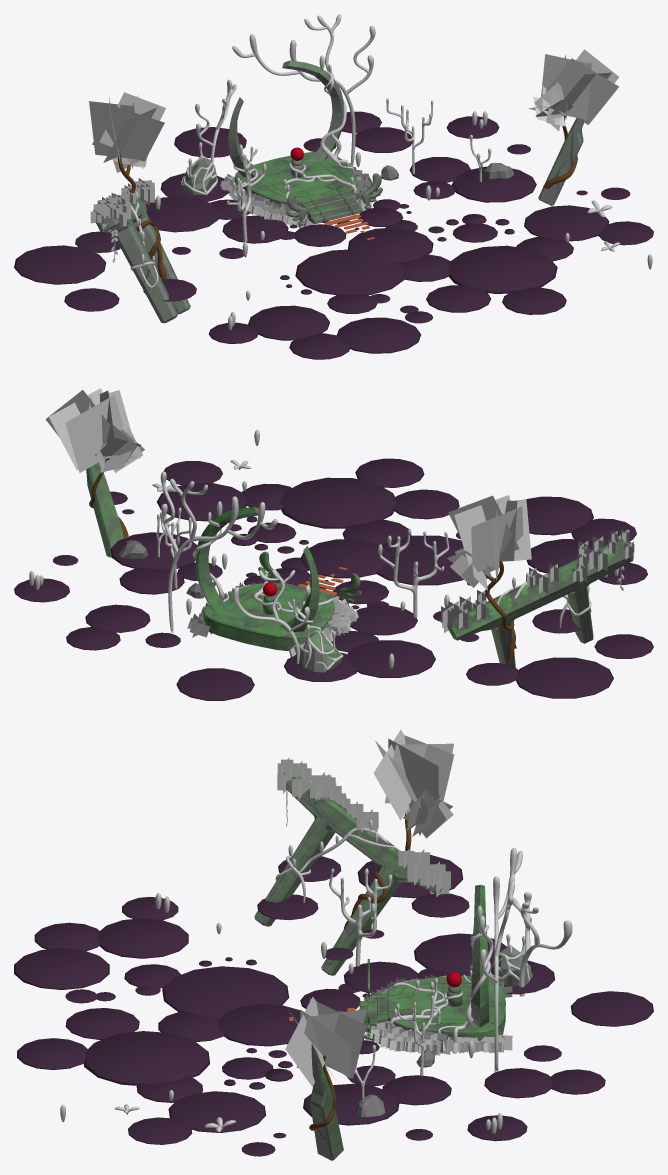
Rendered from endoflevel.fbx.
3 renders of one model, top to bottom at view 1: azimuth 30°, elevation 25°; view 2: azimuth 150°, elevation 25°; view 3: azimuth 270°, elevation 25°, orthographic. The views are drawn at different scales.
Parts seen in each view (by area): view 1: goop, stone1, tree1, tree2, corruption, stone2, moss2, moss, blobs, stone3, CorruptedTree1, Rock (+3 smaller); view 2: goop, stone1, tree2, tree1, stone2, corruption, moss, stone3, moss2, CorruptedTree1, blobs, Rock (+3 smaller); view 3: goop, stone1, stone2, tree2, corruption, tree1, moss, moss2, stone3, blobs, CorruptedTree1, Rock (+2 smaller).
Part boxes in pixels (bbox=[...]): goop: bbox=[14, 111, 653, 359]; stone1: bbox=[228, 60, 382, 225]; tree1: bbox=[528, 49, 618, 188]; tree2: bbox=[89, 92, 166, 279]; corruption: bbox=[129, 14, 375, 287]; stone2: bbox=[96, 197, 190, 323]; moss2: bbox=[220, 156, 380, 227]; moss: bbox=[90, 178, 154, 262]; blobs: bbox=[128, 55, 652, 330]; stone3: bbox=[538, 118, 584, 205]; CorruptedTree1: bbox=[227, 144, 266, 242]; Rock: bbox=[182, 158, 216, 194]; goop: bbox=[14, 458, 653, 700]; stone1: bbox=[195, 507, 361, 650]; tree2: bbox=[447, 495, 531, 661]; tree1: bbox=[45, 388, 144, 537]; stone2: bbox=[447, 538, 633, 667]; corruption: bbox=[160, 471, 591, 663]; moss: bbox=[441, 529, 634, 632]; stone3: bbox=[86, 462, 124, 557]; moss2: bbox=[187, 581, 358, 656]; CorruptedTree1: bbox=[378, 528, 449, 617]; blobs: bbox=[29, 429, 619, 668]; Rock: bbox=[299, 631, 341, 672]; goop: bbox=[14, 854, 653, 1156]; stone1: bbox=[359, 884, 505, 1040]; stone2: bbox=[254, 772, 445, 975]; tree2: bbox=[343, 729, 454, 929]; corruption: bbox=[275, 828, 572, 1072]; tree1: bbox=[285, 997, 366, 1130]; moss: bbox=[277, 758, 450, 897]; moss2: bbox=[365, 974, 512, 1055]; stone3: bbox=[309, 1043, 343, 1160]; blobs: bbox=[60, 819, 502, 1133]; CorruptedTree1: bbox=[329, 868, 392, 966]; Rock: bbox=[491, 946, 532, 986].
Size of the model in its own units: 3566 by 1215 by 3061.
